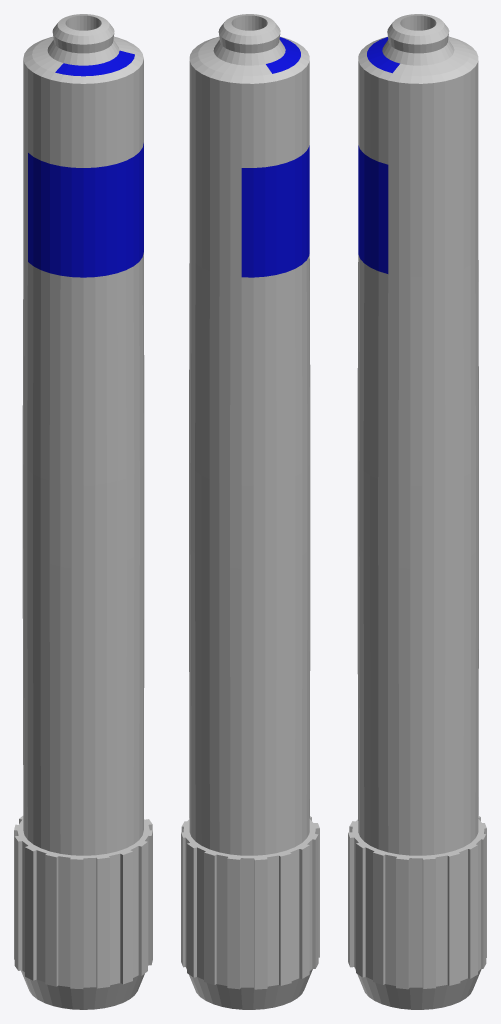
Rendered from pompe2.obj.
The picture shows the model from 3 angles, left to right: view 1: azimuth 90°, elevation 25°; view 2: azimuth 150°, elevation 25°; view 3: azimuth 330°, elevation 25°; orthographic projection.
Parts seen in each view (by area): view 1: Cylinder.001; view 2: Cylinder.001; view 3: Cylinder.001.
Part boxes in pixels (box(x1,y1,x2,y2)): Cylinder.001: box(14, 14, 152, 1009); Cylinder.001: box(181, 14, 319, 1009); Cylinder.001: box(348, 14, 486, 1009).
Size of the model in its own units: 0.3855 by 2.96 by 0.3862.
